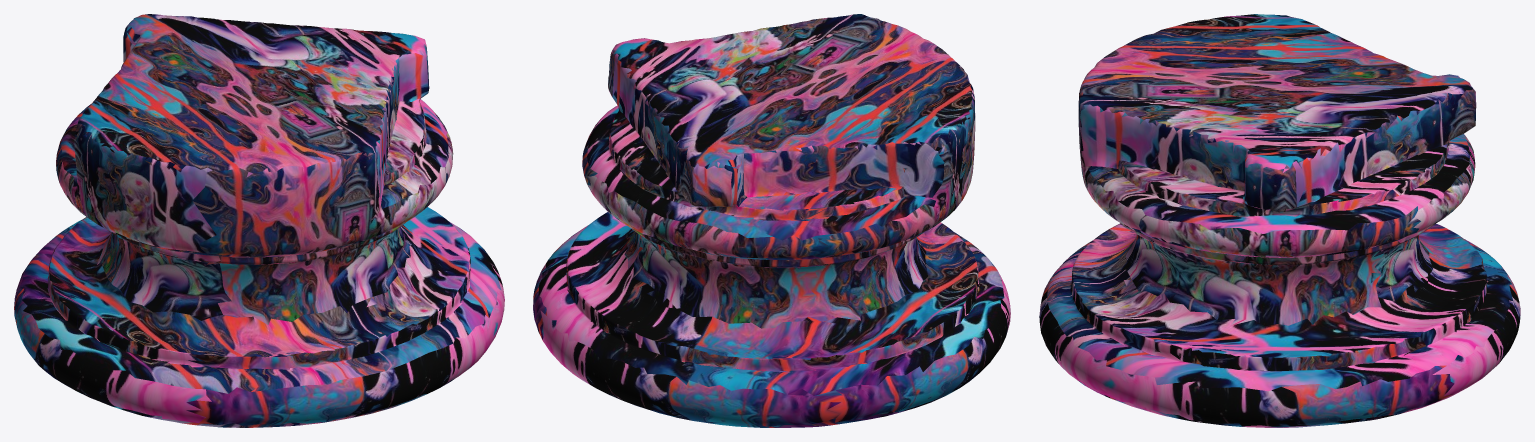
The model's file is si_npg_george-washington.glb.
The picture shows the model from 3 angles, left to right: view 1: azimuth 30°, elevation 25°; view 2: azimuth 150°, elevation 25°; view 3: azimuth 270°, elevation 25°; orthographic projection. The views are drawn at different scales.
Parts seen in each view (by area): view 1: A; view 2: A; view 3: A.
Boxes of the visible parts, left/top/right/bottom form: A: left=14, top=14, right=504, bottom=427; A: left=533, top=14, right=1010, bottom=427; A: left=1039, top=14, right=1520, bottom=427.
Bounding box in the file's own units: 2 × 1.18 × 2.
1 material, 1 textured.
